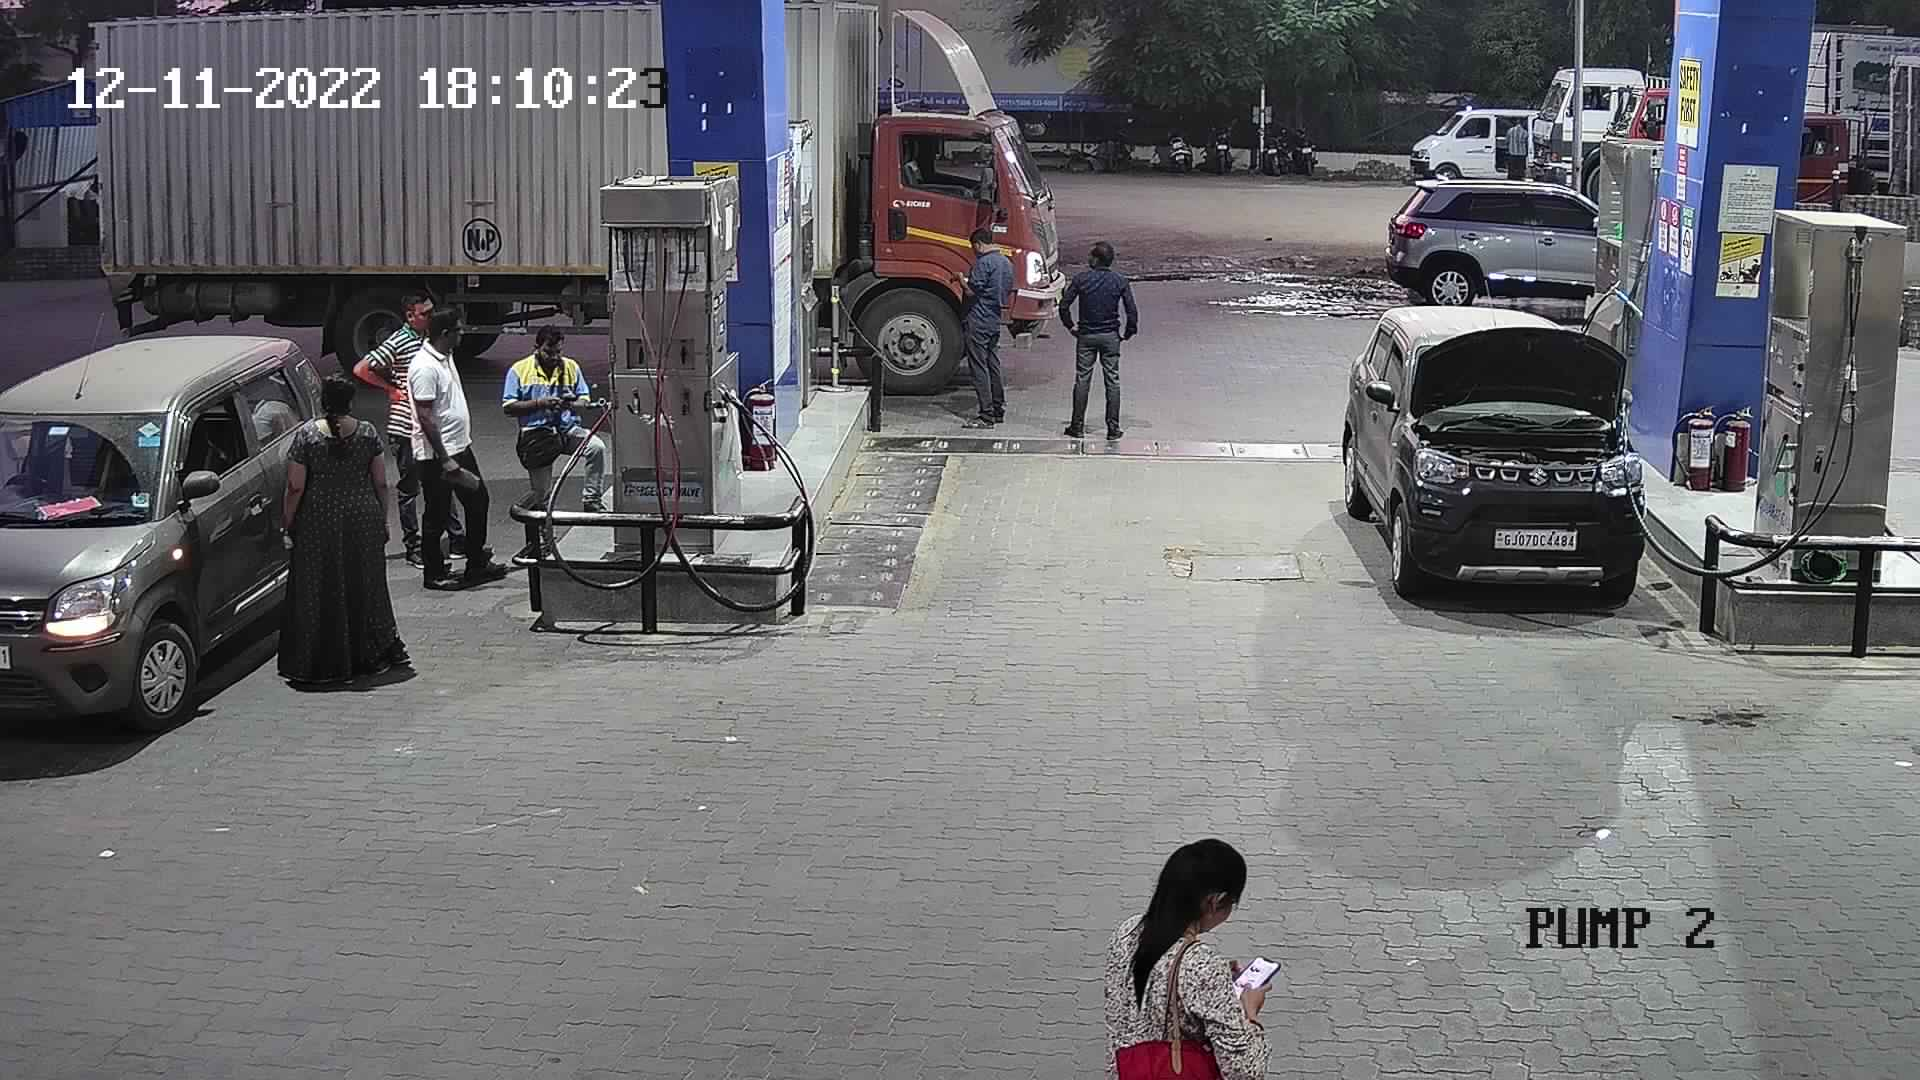Bike: (1149, 109, 1203, 177), (1199, 107, 1245, 173), (1255, 117, 1299, 179), (1286, 123, 1328, 179)
Car: (3, 311, 339, 744), (1333, 273, 1658, 625), (1378, 154, 1630, 322), (1400, 91, 1584, 193)
HMV: (65, 1, 674, 400), (1774, 34, 1917, 214), (1524, 47, 1675, 212), (1604, 66, 1676, 146)
Others: (496, 313, 609, 566)
